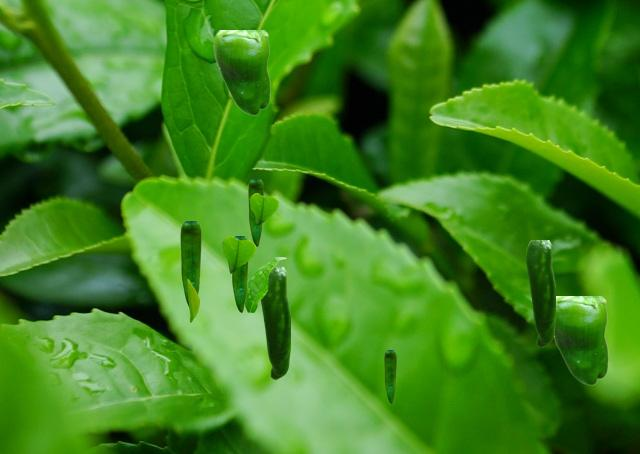green_chili: (213, 30, 269, 114), (554, 296, 607, 384), (260, 267, 289, 378), (526, 240, 554, 346), (180, 221, 200, 307), (231, 236, 247, 311), (248, 179, 262, 245), (384, 350, 395, 402)
